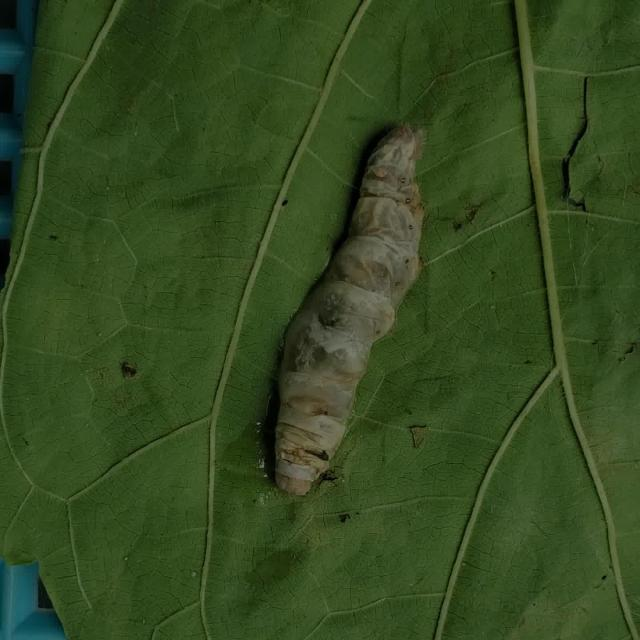Grasserie: (253, 85, 468, 515)
